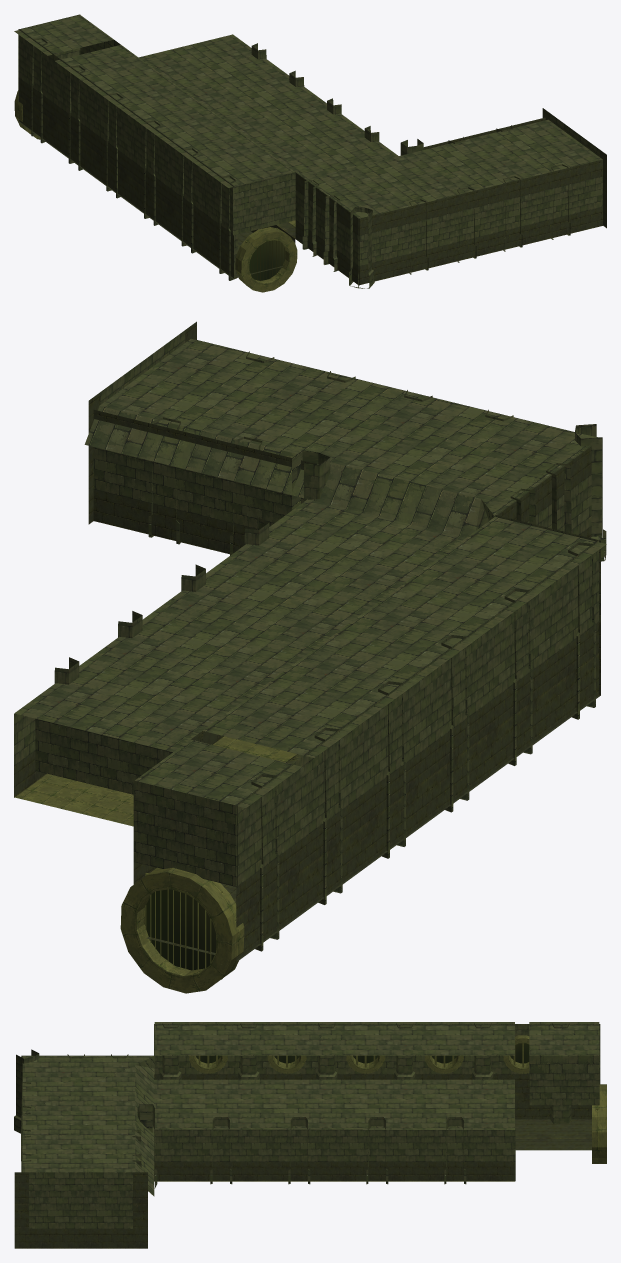
File: Sewer_Turn.fbx
The picture shows the model from 3 angles, top to bottom: view 1: azimuth 30°, elevation 25°; view 2: azimuth 150°, elevation 25°; view 3: azimuth 270°, elevation 25°; orthographic projection. The views are drawn at different scales.
Parts seen in each view (by area): view 1: Sewer_Turn.wall; view 2: Sewer_Turn.wall, Sewer_Turn.floor; view 3: Sewer_Turn.wall, Sewer_Turn.floor.
Part boxes in pixels (x1,y1,x2,y2): Sewer_Turn.wall: (14, 14, 606, 292); Sewer_Turn.wall: (14, 321, 606, 993); Sewer_Turn.floor: (15, 736, 303, 826); Sewer_Turn.wall: (14, 1022, 606, 1248); Sewer_Turn.floor: (154, 1181, 514, 1181).
Size of the model in its own units: 2885 by 4592 by 1080.
